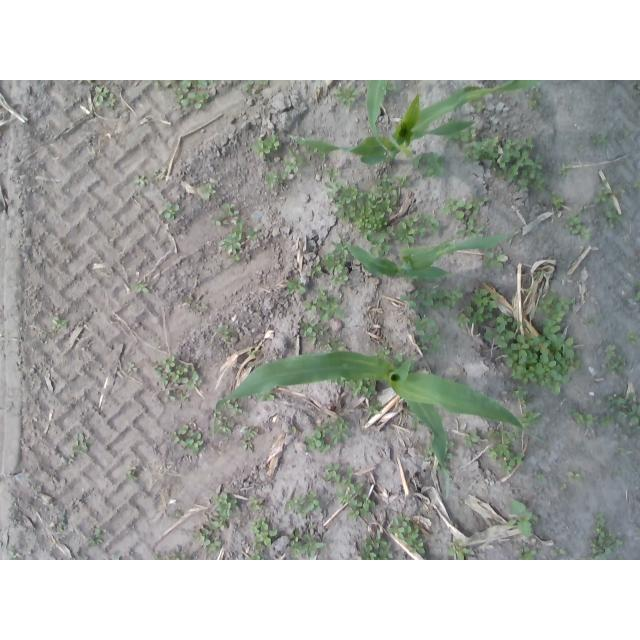Maize: (211, 352, 549, 500), (287, 80, 542, 166), (337, 232, 509, 279), (366, 80, 388, 152)
Weeds: (485, 330, 582, 394), (492, 137, 545, 189), (354, 172, 397, 234), (387, 515, 425, 554), (507, 500, 537, 539), (589, 525, 623, 559), (488, 443, 525, 474), (356, 536, 393, 561), (462, 136, 498, 161), (335, 469, 361, 503), (284, 493, 320, 517), (318, 417, 350, 444), (472, 287, 498, 318), (415, 152, 446, 177), (299, 534, 326, 559), (254, 519, 278, 546), (305, 431, 332, 453), (213, 491, 236, 516), (542, 308, 563, 335), (220, 231, 244, 254), (331, 86, 357, 106), (618, 403, 640, 426), (443, 197, 465, 220), (446, 540, 470, 561), (179, 92, 210, 108), (367, 236, 391, 256), (442, 286, 466, 306), (233, 220, 256, 240), (396, 222, 415, 246), (454, 222, 482, 238), (338, 184, 359, 205), (421, 215, 442, 236), (181, 433, 203, 453), (334, 203, 358, 221), (159, 201, 181, 220), (318, 463, 340, 481), (92, 88, 110, 109), (241, 427, 256, 452), (483, 252, 505, 269), (195, 528, 212, 548), (361, 494, 376, 516), (286, 278, 305, 295), (72, 434, 88, 454), (520, 412, 541, 427), (499, 429, 521, 443), (513, 384, 528, 404), (348, 499, 361, 522), (528, 90, 542, 111), (596, 199, 612, 217), (467, 306, 485, 322), (330, 298, 344, 318), (86, 529, 102, 546), (322, 254, 338, 271), (288, 148, 304, 165), (497, 314, 513, 331), (465, 431, 479, 450), (608, 394, 627, 408), (254, 141, 271, 156), (555, 295, 573, 309), (535, 299, 553, 313), (251, 544, 266, 560), (212, 516, 228, 531), (161, 355, 176, 371), (303, 298, 318, 314), (201, 182, 216, 198), (520, 546, 537, 560), (123, 466, 137, 483), (320, 338, 341, 349), (223, 203, 242, 215), (285, 156, 299, 172), (325, 181, 339, 197), (606, 358, 624, 370), (333, 241, 348, 255), (209, 537, 222, 553), (227, 402, 243, 415), (150, 362, 163, 378), (453, 130, 469, 143), (570, 408, 583, 424), (290, 529, 301, 547), (311, 258, 322, 276), (471, 195, 489, 206), (455, 313, 469, 327), (300, 323, 313, 338), (265, 136, 280, 149), (133, 174, 148, 187), (593, 190, 608, 203), (179, 392, 190, 409), (593, 134, 607, 147), (550, 191, 562, 206), (331, 276, 350, 285), (247, 498, 260, 511), (266, 172, 279, 185), (325, 168, 339, 180), (405, 214, 419, 226), (581, 225, 592, 240), (320, 305, 329, 323), (216, 425, 232, 435), (487, 429, 499, 442), (104, 94, 116, 107), (179, 80, 191, 93), (209, 214, 222, 226), (595, 513, 606, 527), (135, 283, 149, 294), (566, 215, 580, 226), (258, 392, 275, 401), (189, 371, 198, 388), (190, 80, 208, 88), (551, 548, 566, 557), (424, 450, 435, 462), (165, 390, 176, 402), (307, 148, 318, 160), (318, 288, 329, 300), (613, 185, 625, 196), (605, 344, 616, 356), (445, 440, 455, 453), (217, 412, 227, 425), (318, 300, 331, 310), (173, 88, 183, 101), (473, 102, 483, 115), (566, 470, 582, 478), (311, 319, 318, 337), (216, 324, 228, 334), (489, 146, 499, 158), (414, 226, 427, 235), (160, 373, 168, 387), (127, 362, 138, 372), (175, 365, 187, 374), (397, 176, 409, 185), (634, 281, 640, 299), (293, 545, 300, 560), (178, 425, 188, 435), (318, 325, 328, 335), (609, 209, 619, 219), (170, 372, 179, 383), (562, 166, 571, 177), (463, 202, 474, 211), (546, 289, 557, 298), (172, 431, 180, 443), (587, 414, 594, 427), (602, 418, 615, 425), (537, 474, 547, 483), (628, 334, 638, 343), (171, 552, 182, 560), (176, 377, 188, 384), (572, 225, 581, 234), (8, 548, 16, 558), (605, 220, 615, 228), (162, 81, 173, 88), (603, 177, 610, 188), (473, 204, 480, 215), (513, 319, 520, 330), (338, 254, 347, 262), (336, 264, 344, 273), (247, 350, 256, 358), (629, 391, 636, 401), (320, 151, 328, 159), (228, 418, 235, 427), (588, 316, 597, 323), (617, 463, 623, 473), (248, 80, 255, 88), (154, 169, 162, 176), (464, 217, 472, 224), (470, 129, 475, 140), (537, 271, 542, 282), (590, 400, 601, 405), (242, 84, 248, 93), (154, 82, 161, 89), (155, 552, 161, 560), (289, 426, 295, 434), (580, 204, 588, 210), (260, 80, 269, 85), (561, 483, 567, 490), (387, 84, 393, 91), (625, 130, 632, 136), (616, 447, 624, 452), (221, 336, 229, 341), (446, 453, 452, 459), (187, 430, 193, 436), (579, 145, 583, 154), (282, 173, 287, 180), (236, 254, 241, 261), (312, 336, 316, 344), (621, 450, 627, 455), (633, 184, 640, 188), (208, 80, 214, 84)
